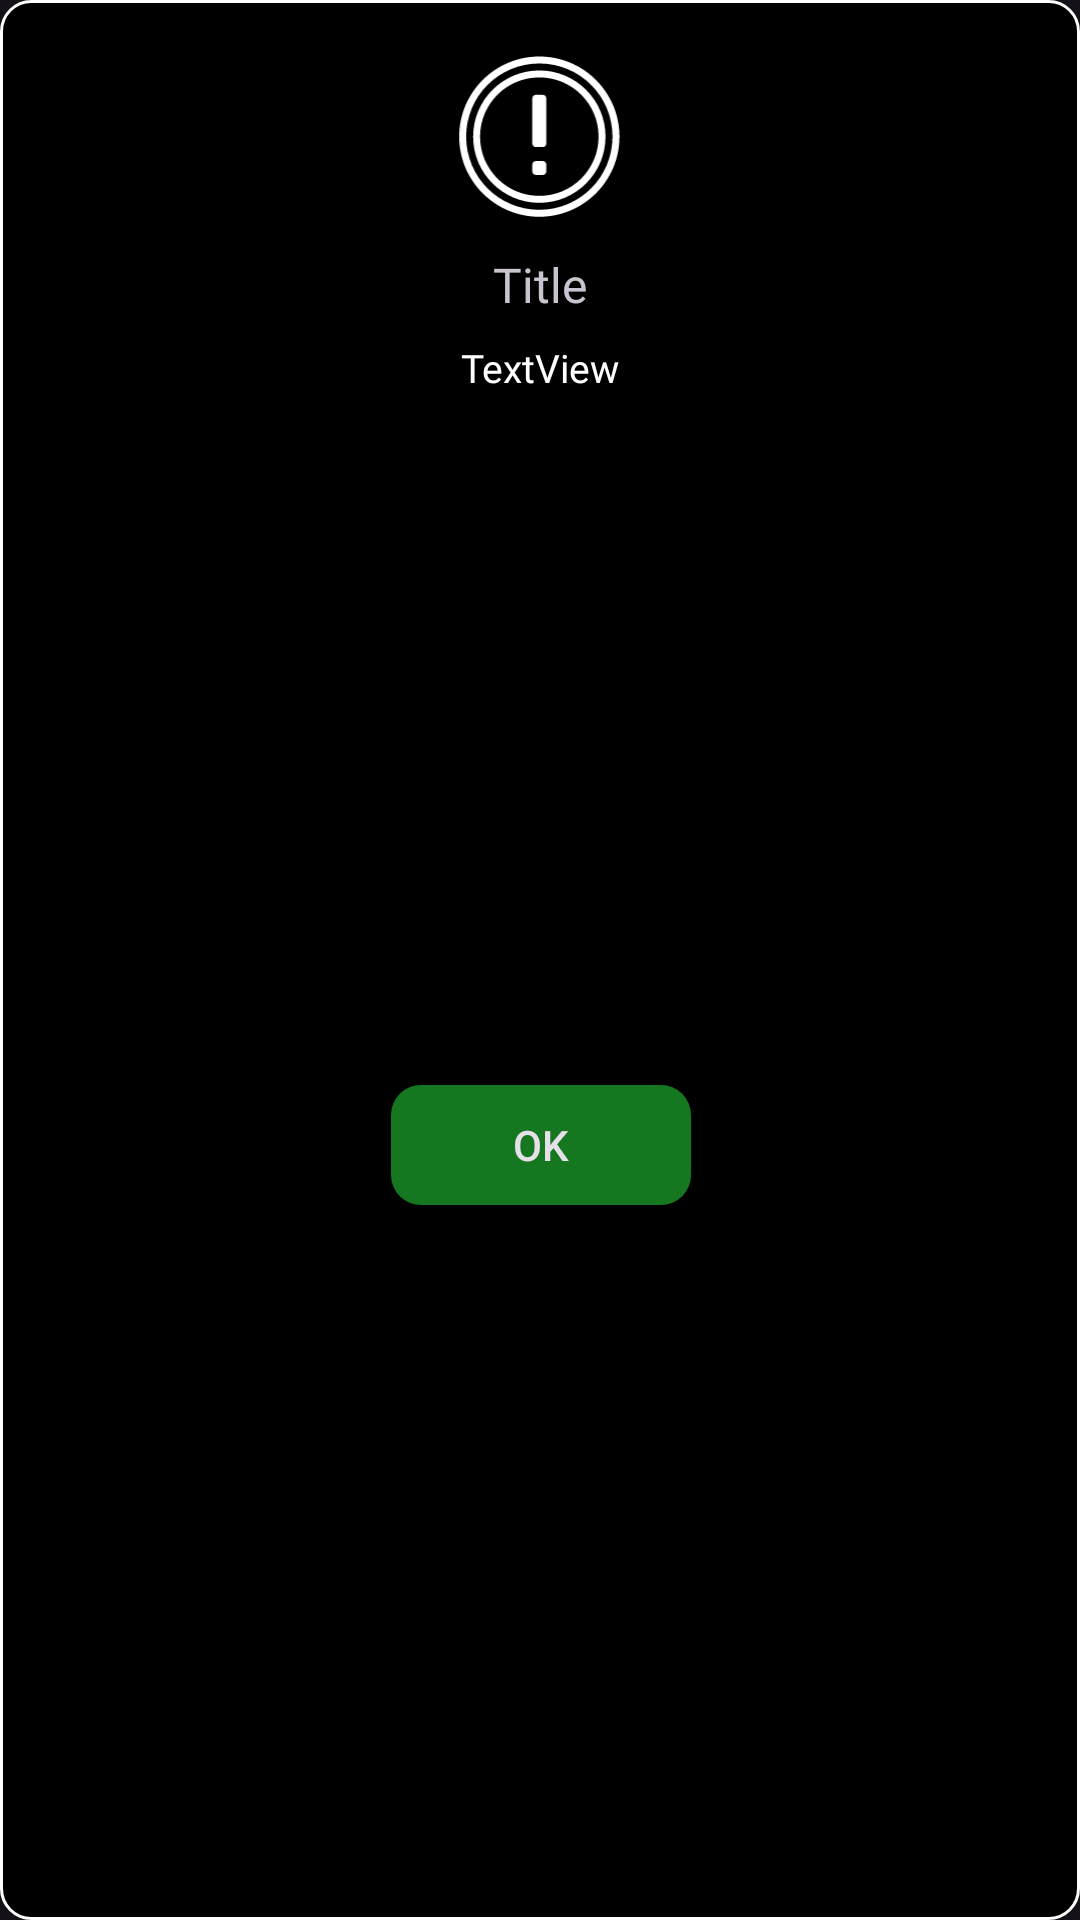

Icon bounding boxes for this 1080x1920 phone screenshot, format region(x1, y1, x2, y2):
warning: region(459, 56, 620, 217)
